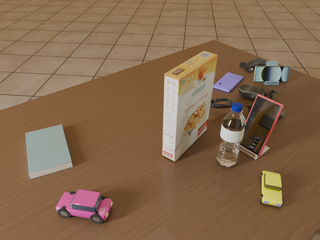book: (25, 125, 73, 179)
bottle: (217, 103, 246, 167)
box: (163, 51, 218, 161)
mouse: (238, 85, 277, 100), (240, 58, 266, 72)
phone: (240, 94, 283, 156), (254, 66, 290, 82), (213, 73, 243, 92)
toy_car: (56, 189, 113, 223), (260, 171, 283, 207)
